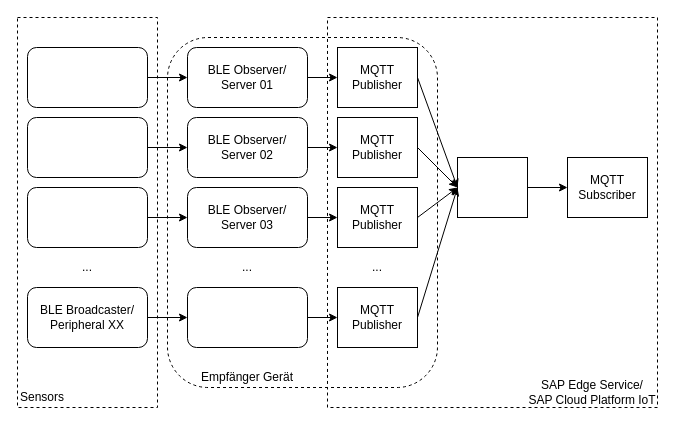
This 683x425 diagram has some shape labels left out. The centre of each missing label's shape, as x and y in pixels:
BLE Broadcaster/ Peripheral 01: the point at 87,77
BLE Broadcaster/ Peripheral 02: the point at 87,147
BLE Broadcaster/ Peripheral 03: the point at 87,217
BLE Observer/ Server XX: the point at 247,317
MQTT Broker: the point at 492,187
